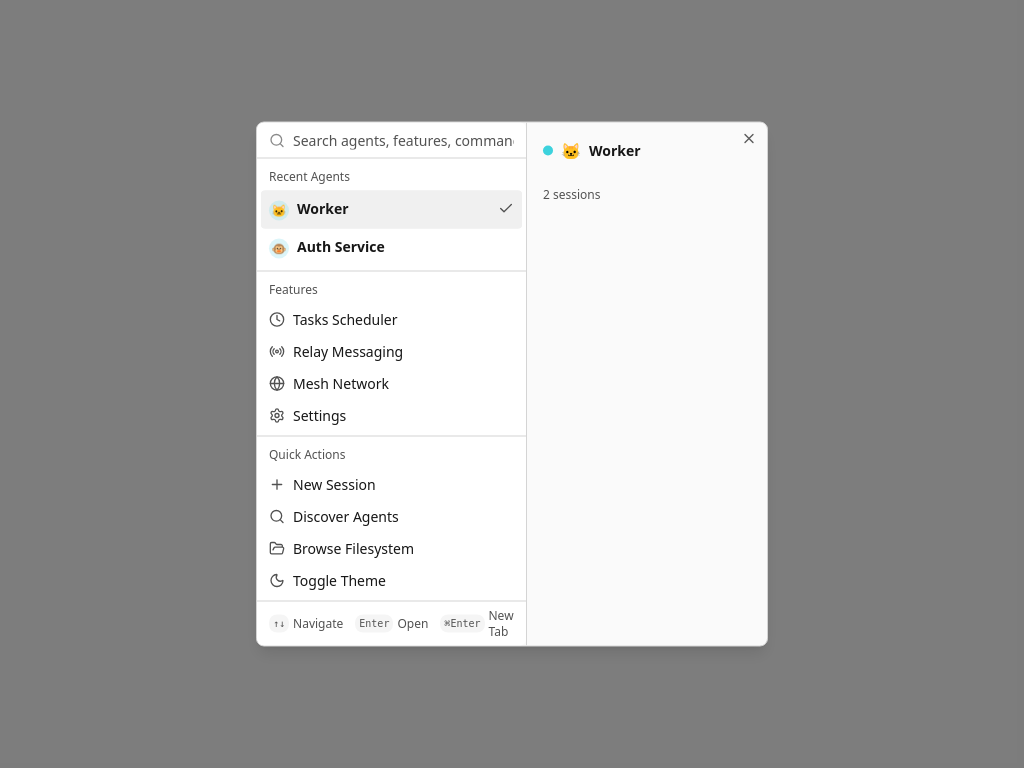
Test: CommandPaletteDialog › clicking an agent item opens the sub-menu (agent-actions page)
Step 1. Click the option "🐱 Worker" → (392, 210), box [261,190,522,228]
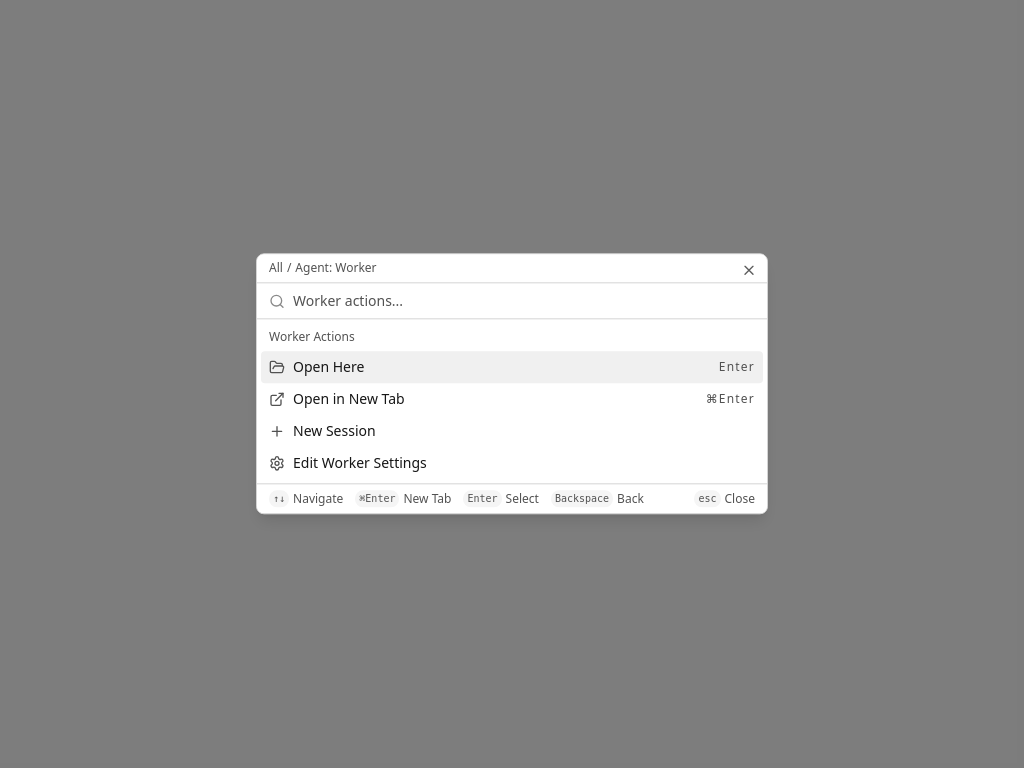
Now the text "Open Here" is shown, box [293,357,364,377]
Now the text "Open in New Tab" is shown, box [293,389,405,409]
Now the text "Edit Worker Settings" is shown, box [293,453,427,473]
